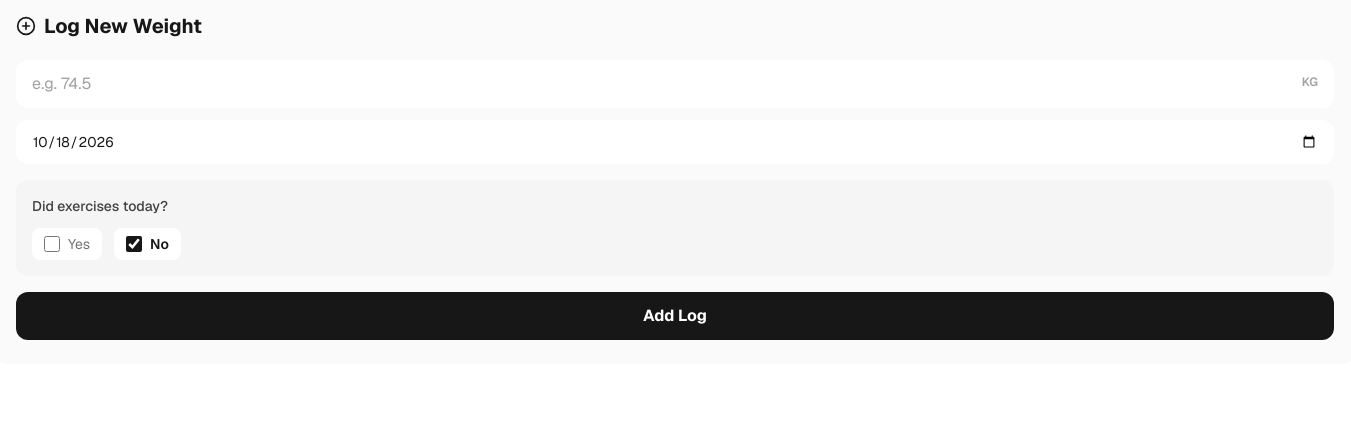
Scenario: WeightForm › submits valid weight and optional exercise details, then resets form
Type "76.4" into the number field with placeholder "e.g. 74.5" at point(675, 84), box [16,60,1334,108]
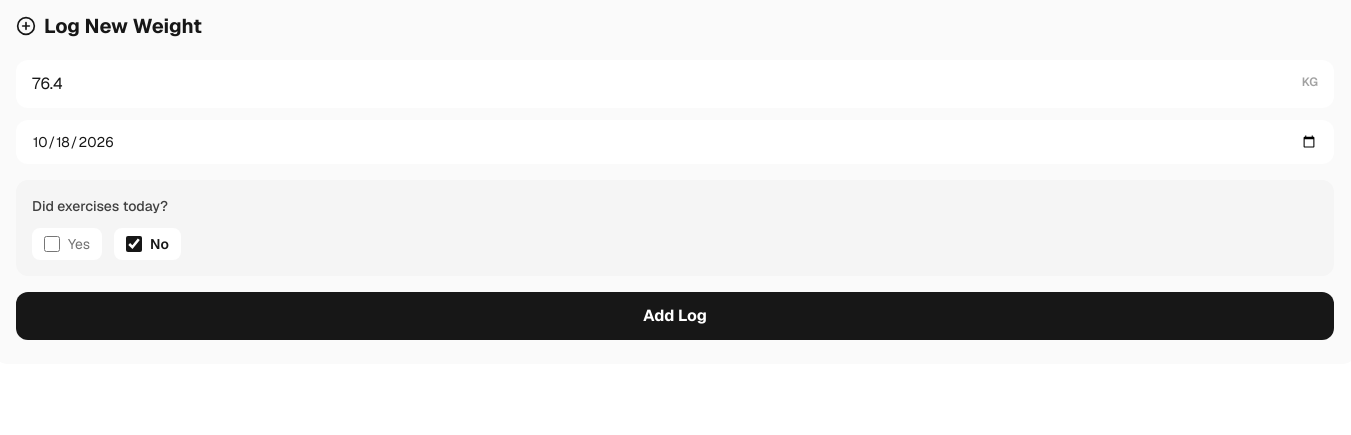
Click the checkbox labelled "Yes" at point(52, 244), box [44,236,60,252]
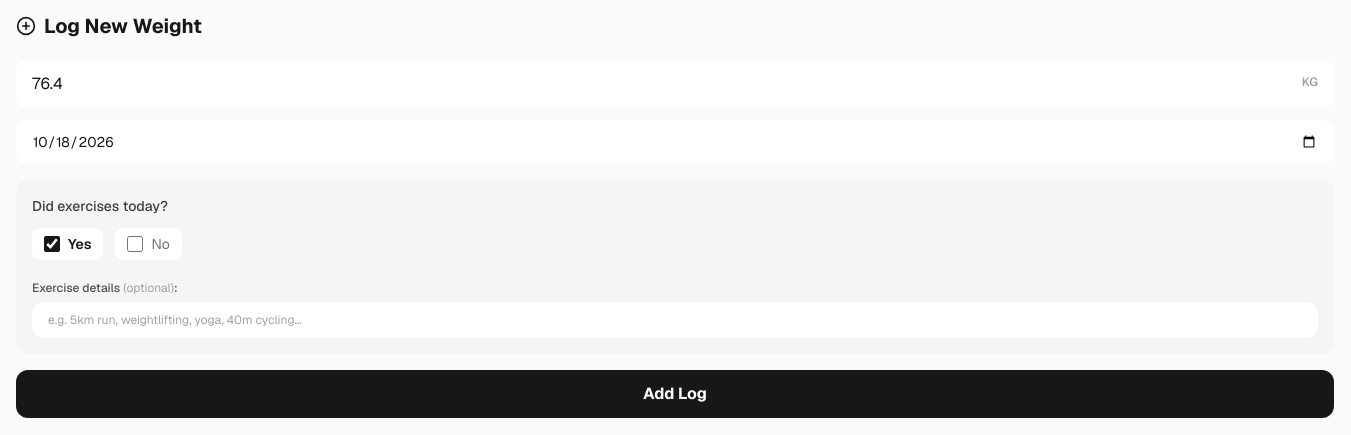
Type "  Weightlifting  " into the field with placeholder "e.g. 5km run, weightlifting, yoga, 40m cycling..." at point(675, 320), box [32,302,1318,338]
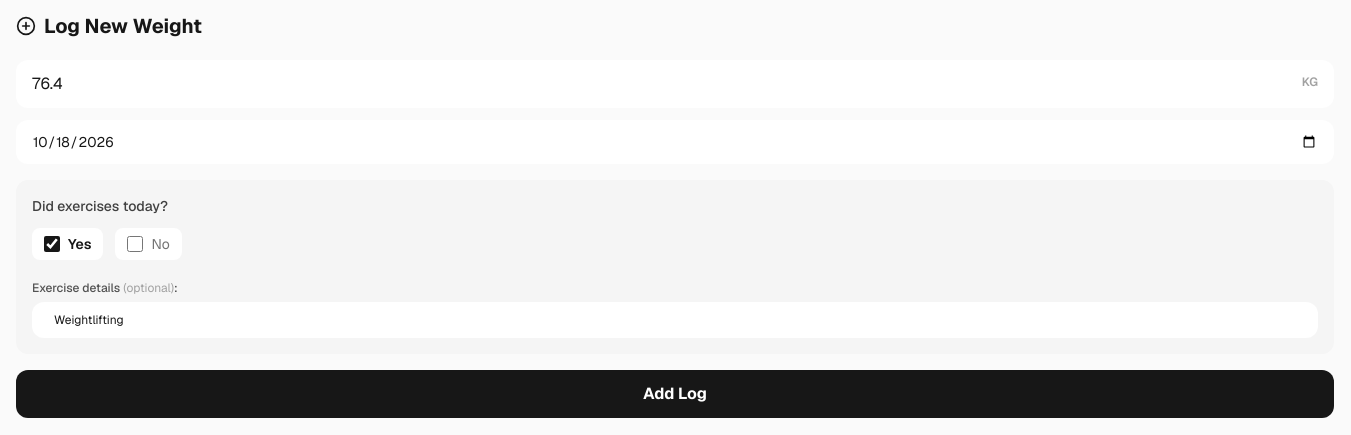
Click the button "Add Log" at point(675, 394), box [16,370,1334,418]
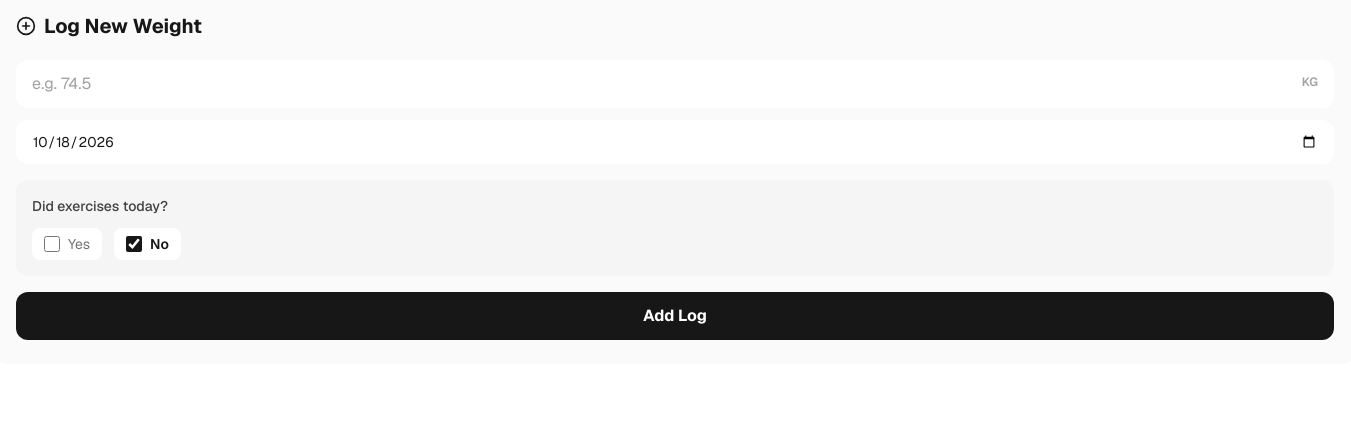
Result: the number field with placeholder "e.g. 74.5" is not empty at [16,60,1334,108]
